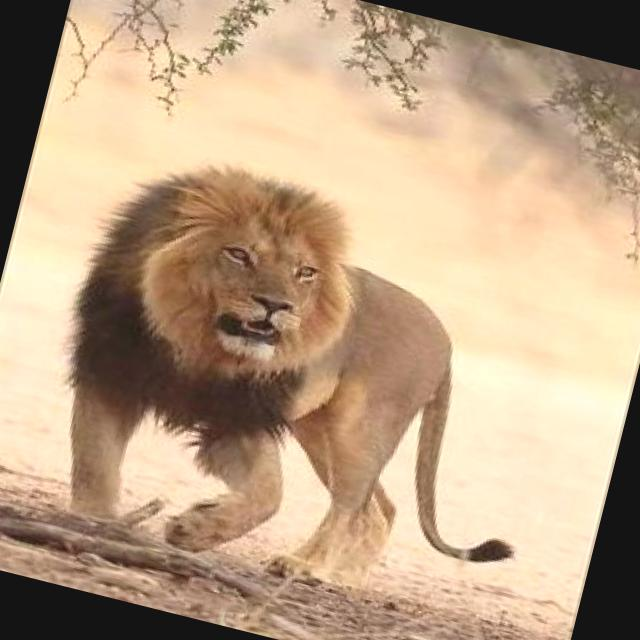lions: (0, 94, 614, 640)
